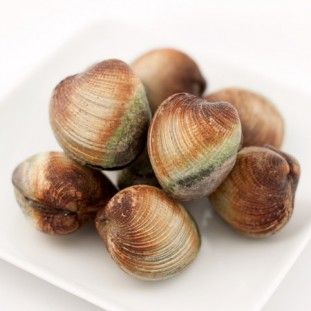cockle: (46, 58, 153, 170), (93, 182, 203, 282), (146, 91, 243, 204), (10, 149, 120, 237), (208, 140, 303, 238), (207, 85, 289, 151), (129, 46, 207, 109)
